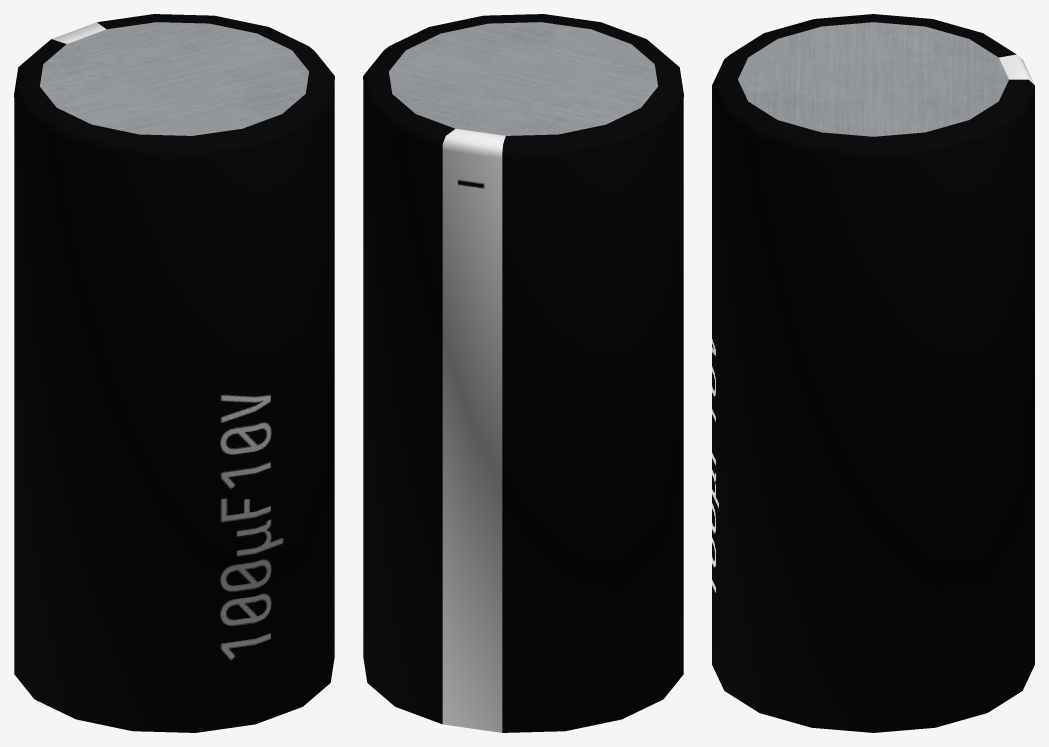
File: Generic-Capacitor.obj
3 renders of one model, left to right at view 1: azimuth 30°, elevation 25°; view 2: azimuth 150°, elevation 25°; view 3: azimuth 270°, elevation 25°, orthographic.
Visible parts, largest first — view 1: Generic-Capacitor; view 2: Generic-Capacitor; view 3: Generic-Capacitor.
Part boxes in pixels (x1,y1,x2,y2): Generic-Capacitor: (14, 14, 334, 732); Generic-Capacitor: (363, 14, 683, 732); Generic-Capacitor: (712, 14, 1034, 732).
Size of the model in its own units: 0.5001 by 1 by 0.5002.
